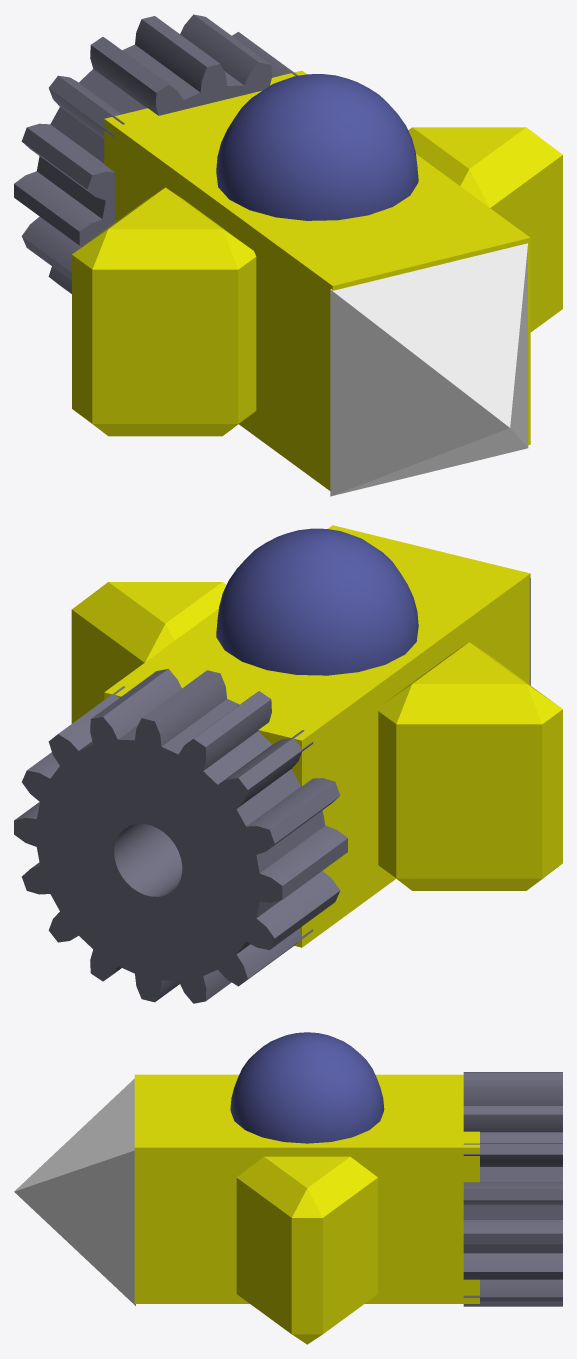
The model's file is shooting_Playermodel.fbx.
3 views of the same model, one above another, from view 1: azimuth 30°, elevation 25°; view 2: azimuth 150°, elevation 25°; view 3: azimuth 270°, elevation 25° (orthographic). The views are drawn at different scales.
Parts seen in each view (by area): view 1: pGear2; view 2: pGear2; view 3: pGear2.
Boxes of the visible parts, box(x1,y1,x2,y2) form: pGear2: box(14, 14, 562, 496); pGear2: box(14, 525, 562, 1003); pGear2: box(14, 1032, 562, 1344).
Size of the model in its own units: 0.0238 by 0.0164 by 0.0318.
